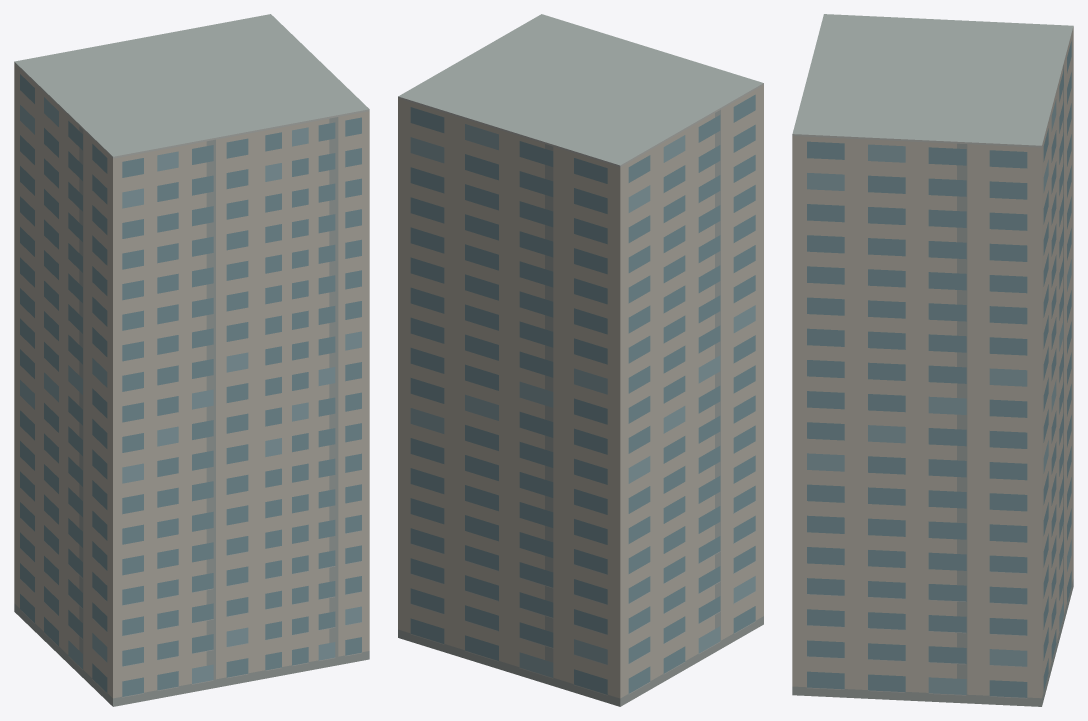
File: residential-cb53de78-06b1-4374-96ae-0d89bbd9591e.glb
3 renders of one model, left to right at view 1: azimuth 30°, elevation 25°; view 2: azimuth 150°, elevation 25°; view 3: azimuth 270°, elevation 25°, orthographic. The views are drawn at different scales.
Parts seen in each view (by area): view 1: residential-cb53de78-06b1-4374-96ae-0d89bbd9591e.tmp; view 2: residential-cb53de78-06b1-4374-96ae-0d89bbd9591e.tmp; view 3: residential-cb53de78-06b1-4374-96ae-0d89bbd9591e.tmp.
Part boxes in pixels (x1=…): residential-cb53de78-06b1-4374-96ae-0d89bbd9591e.tmp: x1=14, y1=14, x2=369, y2=706; residential-cb53de78-06b1-4374-96ae-0d89bbd9591e.tmp: x1=398, y1=14, x2=763, y2=706; residential-cb53de78-06b1-4374-96ae-0d89bbd9591e.tmp: x1=792, y1=14, x2=1073, y2=706.
Bounding box in the file's own units: 36.27 × 72 × 32.7.
